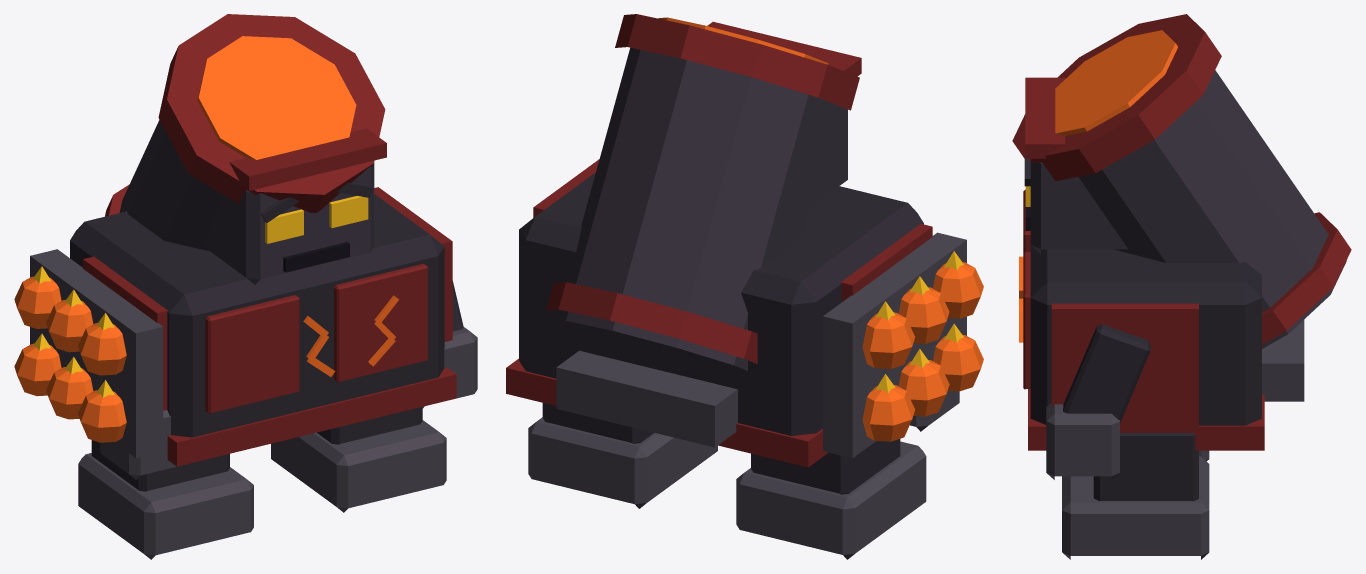
File: r3_mini_lava_mortar.glb
3 views of the same model, side by side, from view 1: azimuth 30°, elevation 25°; view 2: azimuth 150°, elevation 25°; view 3: azimuth 270°, elevation 25° (orthographic). The views are drawn at different scales.
Parts seen in each view (by area): view 1: r3_mini_lava_mortar_mesh; view 2: r3_mini_lava_mortar_mesh; view 3: r3_mini_lava_mortar_mesh.
Boxes of the visible parts, x1=… form: r3_mini_lava_mortar_mesh: x1=14, y1=14, x2=477, y2=559; r3_mini_lava_mortar_mesh: x1=506, y1=14, x2=983, y2=559; r3_mini_lava_mortar_mesh: x1=1012, y1=14, x2=1351, y2=559.
Size of the model in its own units: 3.91 by 4.5 by 3.02.
Materials: 1 (1 with a texture image).
